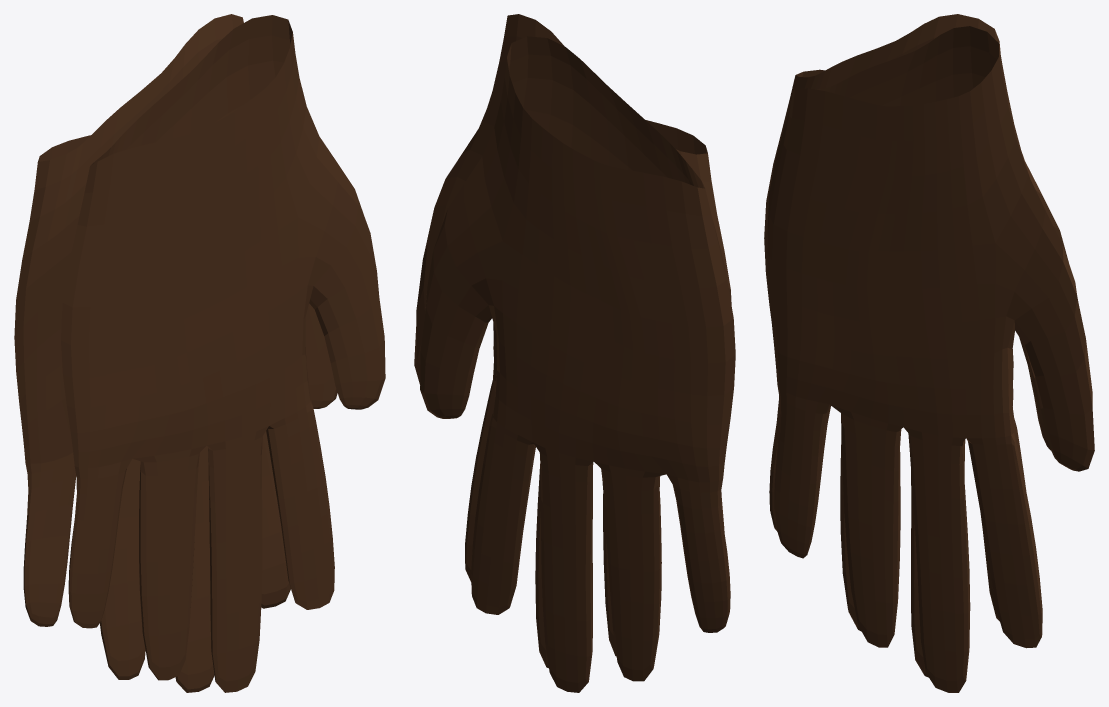
File: guantischiacciati.fbx
3 renders of one model, left to right at view 1: azimuth 30°, elevation 25°; view 2: azimuth 150°, elevation 25°; view 3: azimuth 330°, elevation 25°, orthographic. The views are drawn at different scales.
Parts seen in each view (by area): view 1: Plane; view 2: Plane; view 3: Plane.
Part boxes in pixels (x1=…): Plane: x1=14, y1=14, x2=385, y2=692; Plane: x1=414, y1=14, x2=735, y2=692; Plane: x1=764, y1=14, x2=1094, y2=692.
Bounding box in the file's own units: 14.7 × 26.88 × 3.09.
